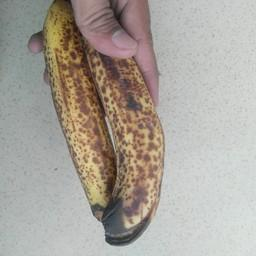Bad_banana: (40, 0, 115, 213), (88, 45, 161, 244)
